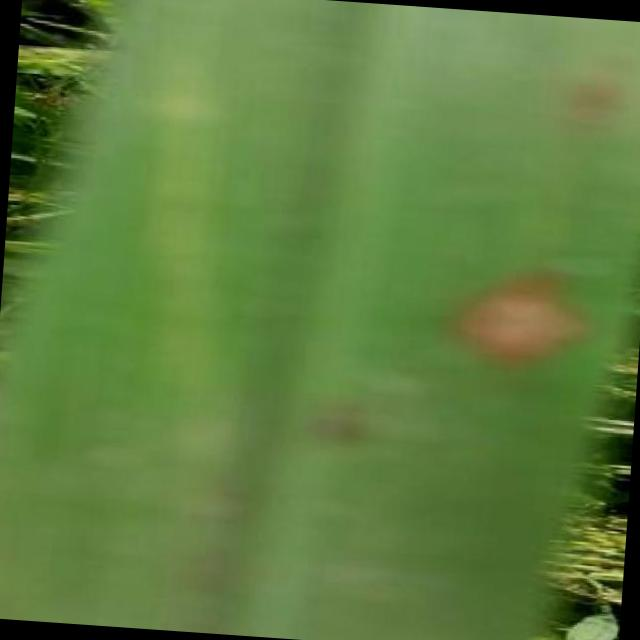Rice_Blast: (427, 242, 624, 396)
